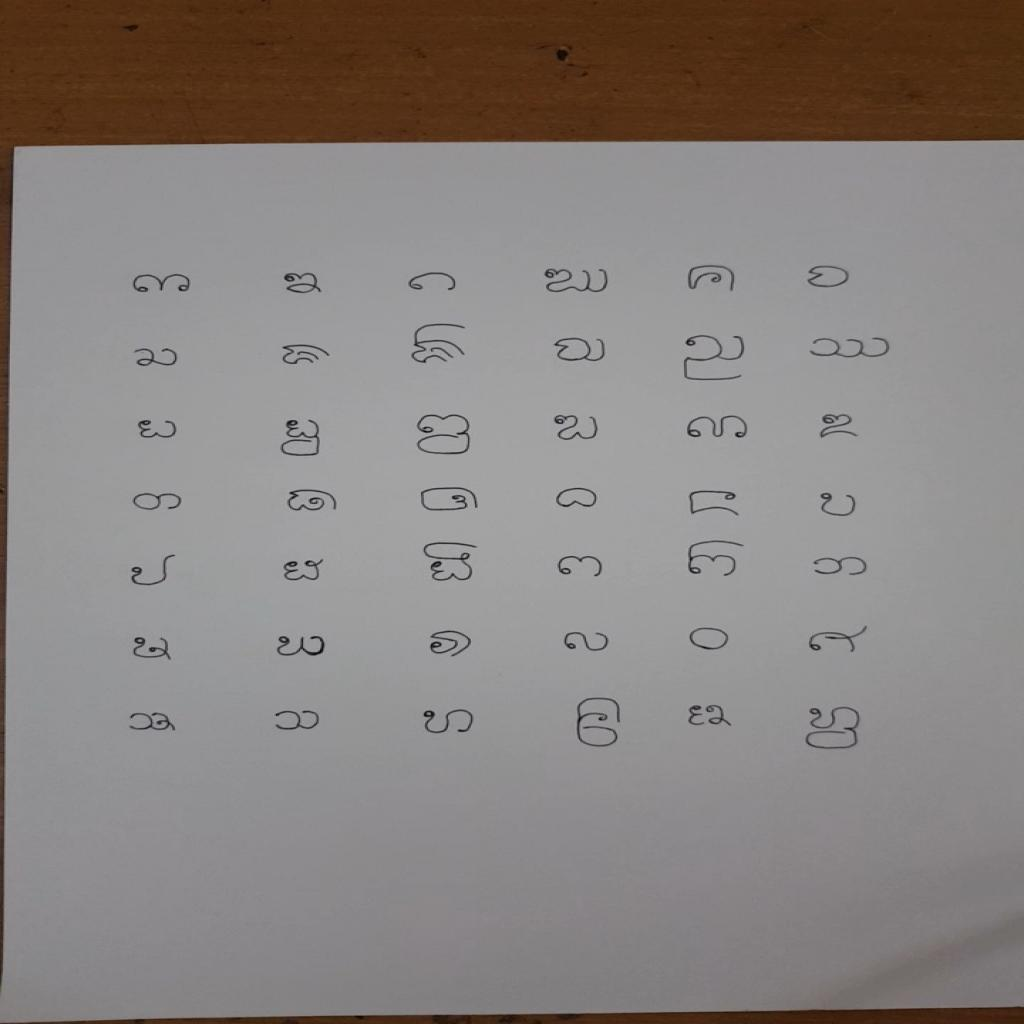LN001: (128, 271, 199, 298)
LN002: (278, 270, 328, 297)
LN003: (404, 270, 464, 295)
LN004: (539, 267, 616, 296)
LN005: (683, 263, 742, 295)
LN006: (803, 264, 857, 292)
LN007: (128, 345, 185, 371)
LN008: (277, 342, 337, 369)
LN009: (408, 321, 474, 368)
LN010: (548, 335, 614, 366)
LN011: (680, 333, 753, 385)
LN012: (804, 335, 898, 362)
LN013: (133, 417, 184, 442)
LN014: (277, 418, 328, 461)
LN015: (412, 412, 478, 459)
LN016: (550, 413, 605, 444)
LN017: (681, 414, 756, 443)
LN018: (814, 412, 865, 442)
LN019: (128, 491, 189, 515)
LN020: (283, 487, 346, 515)
LN021: (415, 484, 487, 516)
LN022: (552, 486, 605, 512)
LN023: (685, 488, 745, 520)
LN024: (815, 490, 863, 520)
LN025: (127, 552, 182, 590)
LN026: (278, 557, 331, 585)
LN027: (419, 541, 485, 586)
LN028: (554, 554, 611, 581)
LN029: (683, 539, 751, 581)
LN030: (809, 554, 875, 580)
LN031: (129, 634, 179, 664)
LN032: (273, 634, 332, 660)
LN033: (425, 628, 478, 662)
LN034: (560, 630, 616, 655)
LN035: (686, 625, 735, 654)
LN036: (805, 624, 874, 657)
LN037: (123, 710, 181, 736)
LN038: (270, 708, 327, 734)
LN039: (418, 707, 482, 738)
LN040: (573, 695, 627, 751)
LN041: (681, 702, 737, 730)
LN042: (800, 705, 868, 754)
